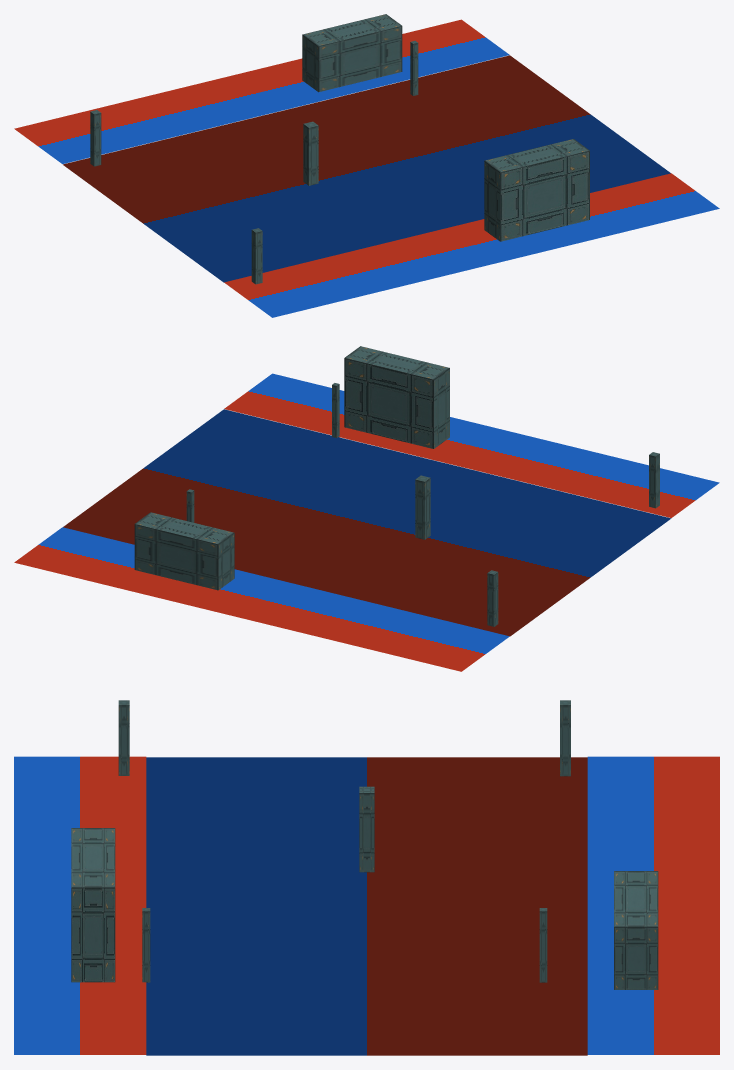
Rendered from cargo_crate.gltf.
3 views of the same model, one above another, from view 1: azimuth 30°, elevation 25°; view 2: azimuth 150°, elevation 25°; view 3: azimuth 270°, elevation 25° (orthographic). The views are drawn at different scales.
Visible parts, largest first — view 1: EastRoadAndSidewalks, CargoCrateLandmark, TransitBody, AlleyMarker, SouthGatePost, NorthGatePost; view 2: EastRoadAndSidewalks, CargoCrateLandmark, TransitBody, AlleyMarker, SouthGatePost, NorthGatePost; view 3: EastRoadAndSidewalks, CargoCrateLandmark, TransitBody, AlleyMarker, NorthGatePost, SouthGatePost, MarketBeacon, TransitBeacon.
Part boxes in pixels (box(x1,y1,x2,y2)): EastRoadAndSidewalks: box(14, 19, 719, 317); CargoCrateLandmark: box(484, 139, 589, 241); TransitBody: box(302, 14, 402, 92); AlleyMarker: box(303, 121, 318, 185); SouthGatePost: box(90, 110, 101, 166); NorthGatePost: box(251, 228, 262, 284); EastRoadAndSidewalks: box(14, 373, 719, 671); CargoCrateLandmark: box(344, 346, 449, 448); TransitBody: box(134, 512, 234, 590); AlleyMarker: box(415, 475, 430, 539); SouthGatePost: box(487, 570, 498, 626); NorthGatePost: box(649, 452, 659, 508); EastRoadAndSidewalks: box(14, 756, 719, 1055); CargoCrateLandmark: box(71, 828, 115, 982); TransitBody: box(614, 871, 658, 989); AlleyMarker: box(359, 786, 374, 872); NorthGatePost: box(118, 700, 129, 775); SouthGatePost: box(560, 700, 570, 776); MarketBeacon: box(142, 908, 150, 982); TransitBeacon: box(539, 908, 547, 982).
Size of the model in its own units: 16 by 2.4 by 16.
4 materials, 4 textured.
